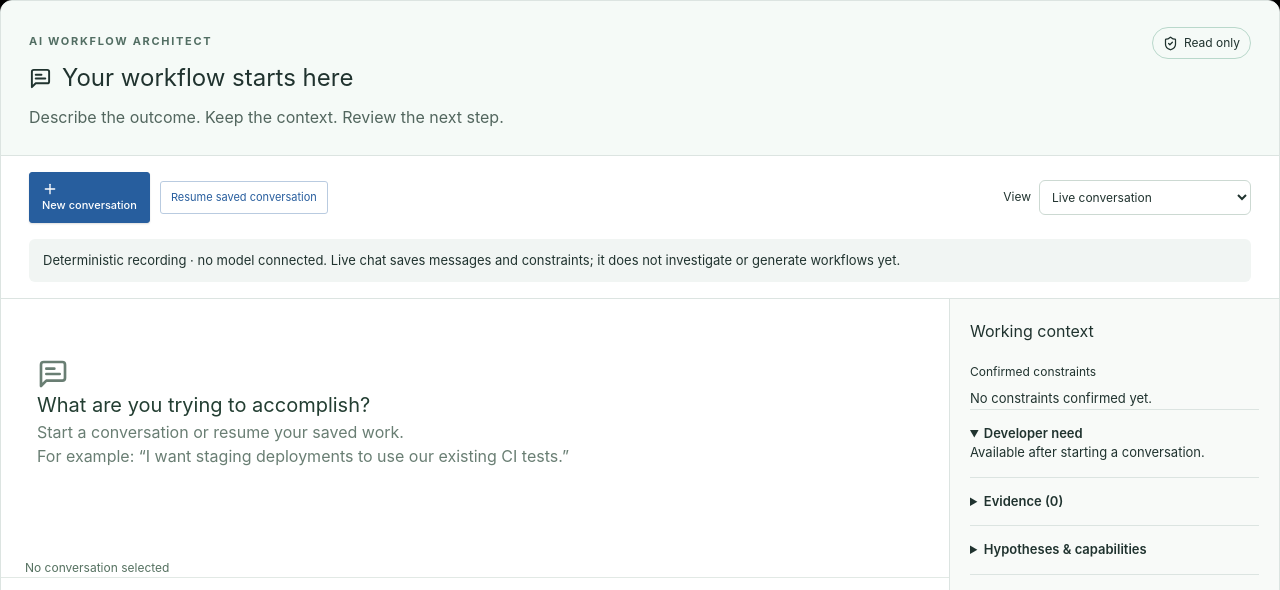
Test: resumes the saved conversation after remount
Click the button "Resume saved conversation" at (244, 197), box [160,181,328,214]
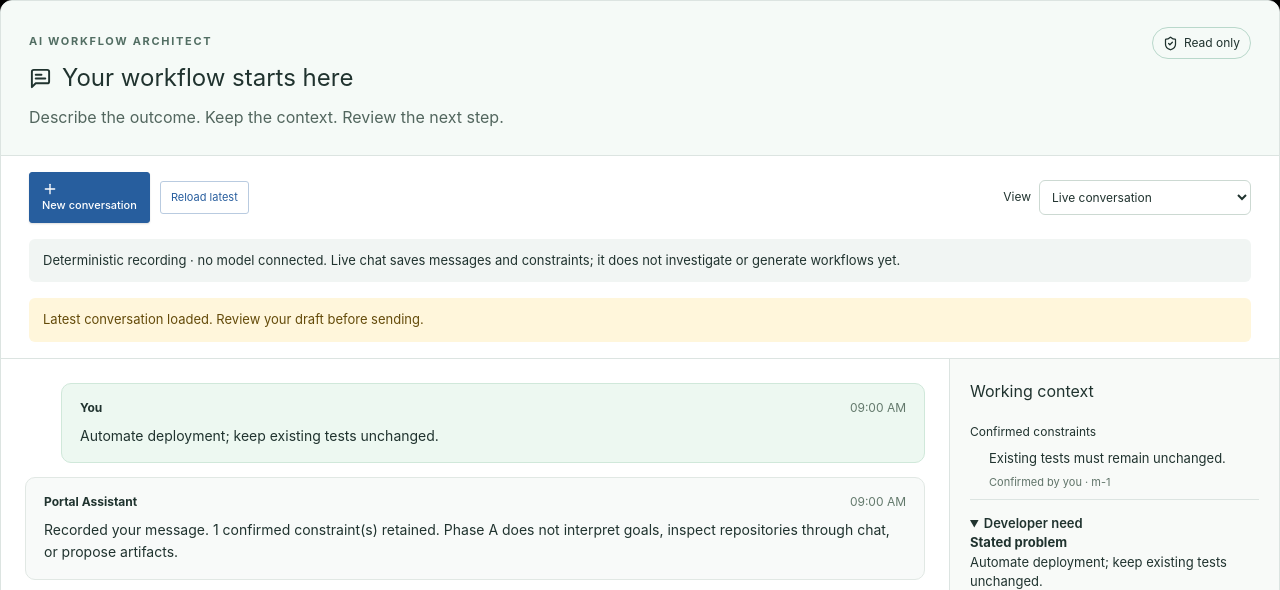
Expected: the text "Existing tests must remain unchanged." is shown, [989,450,1226,466]
